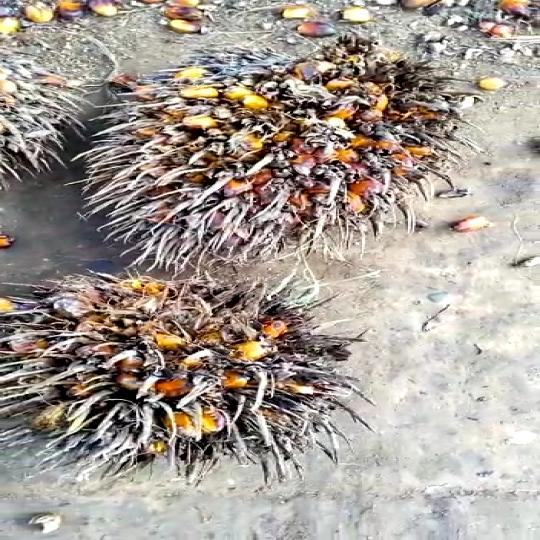terlalu masak: (77, 33, 481, 271), (0, 262, 423, 477)
